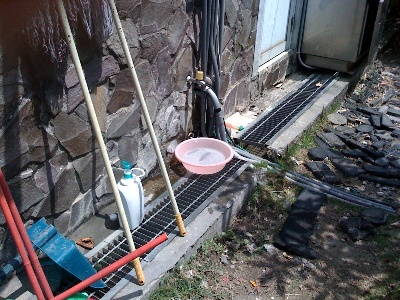bottle: (117, 159, 145, 231)
bowl: (174, 136, 235, 175)
